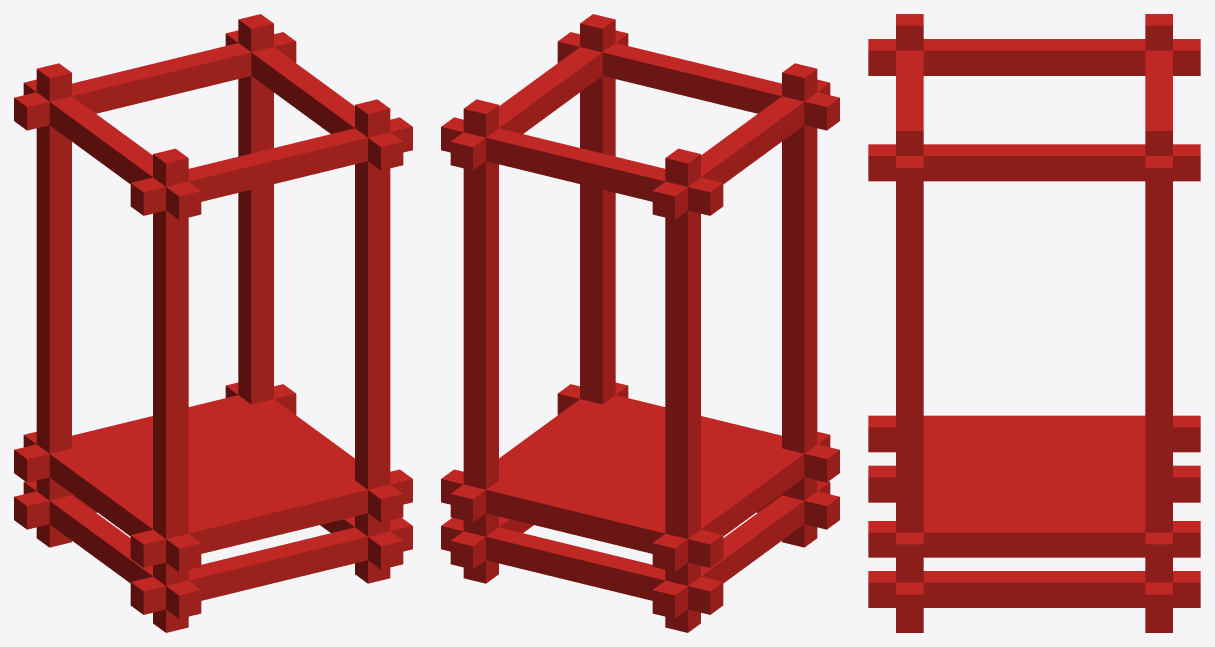
File: Lantern.fbx
3 renders of one model, left to right at view 1: azimuth 30°, elevation 25°; view 2: azimuth 150°, elevation 25°; view 3: azimuth 270°, elevation 25°, orthographic. The views are drawn at different scales.
Parts seen in each view (by area): view 1: Cube.001; view 2: Cube.001; view 3: Cube.001.
Part boxes in pixels (bbox=[...]): Cube.001: bbox=[14, 14, 412, 632]; Cube.001: bbox=[441, 14, 839, 632]; Cube.001: bbox=[868, 14, 1200, 632].
Size of the model in its own units: 2.4 by 4 by 2.4.
